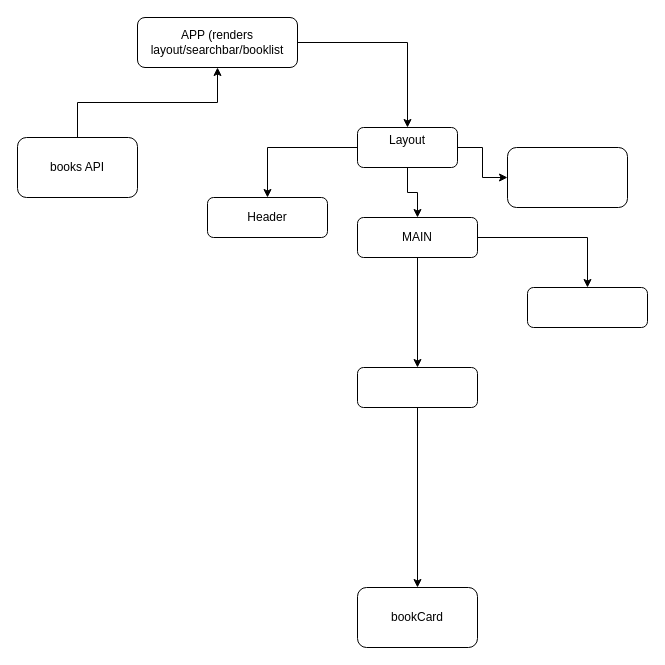
Image size: 665x665. Some labels were removed from this diagram. The shapes that lost their labels are listed below. From the top down, each one's box as (x1, y1, x2, y2) in pixels, then its label:
(506, 146, 628, 208): Footer
(526, 286, 648, 328): searchBar
(356, 366, 478, 408): booklist
